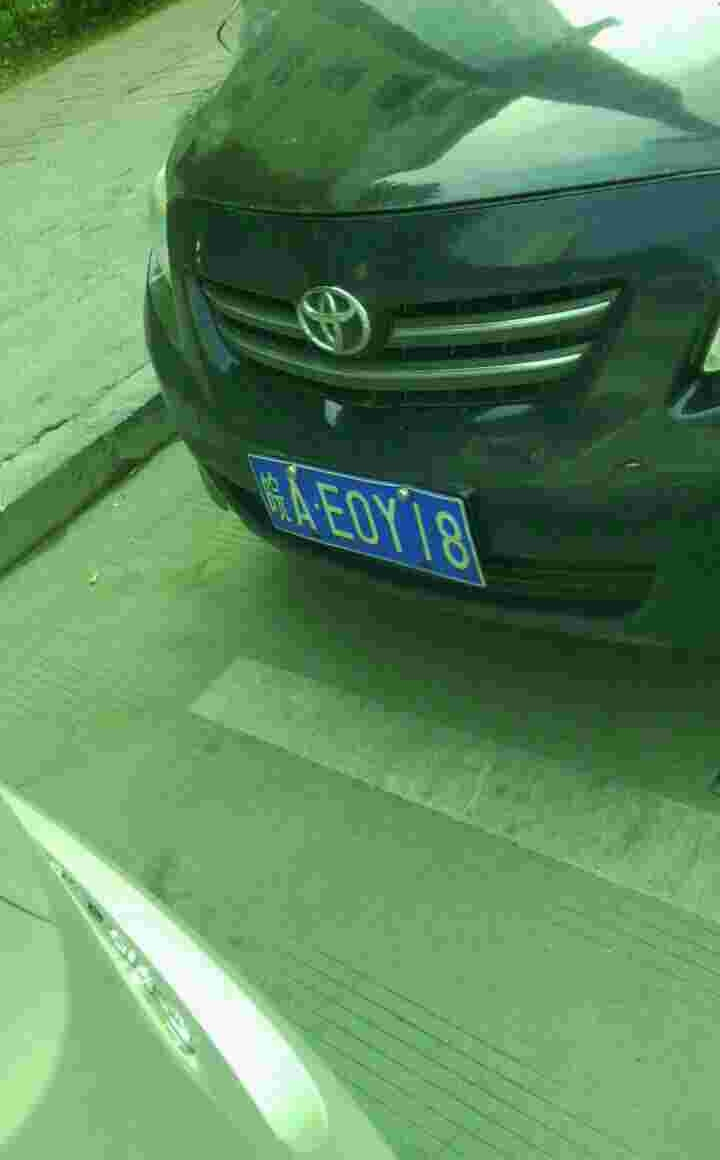license_plate: (251, 444, 476, 588)
